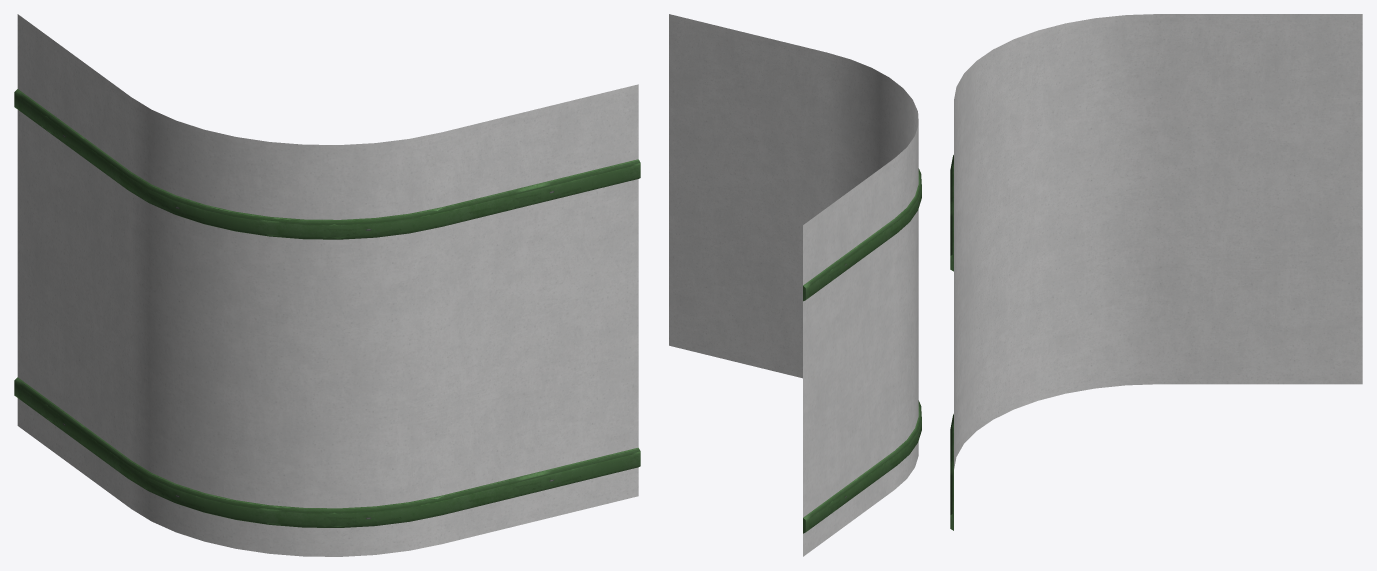
Rendered from MB_Wall_Angle_C_01.fbx.
The picture shows the model from 3 angles, left to right: view 1: azimuth 30°, elevation 25°; view 2: azimuth 150°, elevation 25°; view 3: azimuth 270°, elevation 25°; orthographic projection. The views are drawn at different scales.
Visible parts, largest first — view 1: MB_Wall_Angle_C_01_LOD0; view 2: MB_Wall_Angle_C_01_LOD0; view 3: MB_Wall_Angle_C_01_LOD0.
Part boxes in pixels (x1=…): MB_Wall_Angle_C_01_LOD0: x1=14, y1=14, x2=640, y2=556; MB_Wall_Angle_C_01_LOD0: x1=669, y1=14, x2=921, y2=556; MB_Wall_Angle_C_01_LOD0: x1=950, y1=14, x2=1362, y2=530.
Size of what is drawn, in the model's own units: 403 by 400 by 403.
